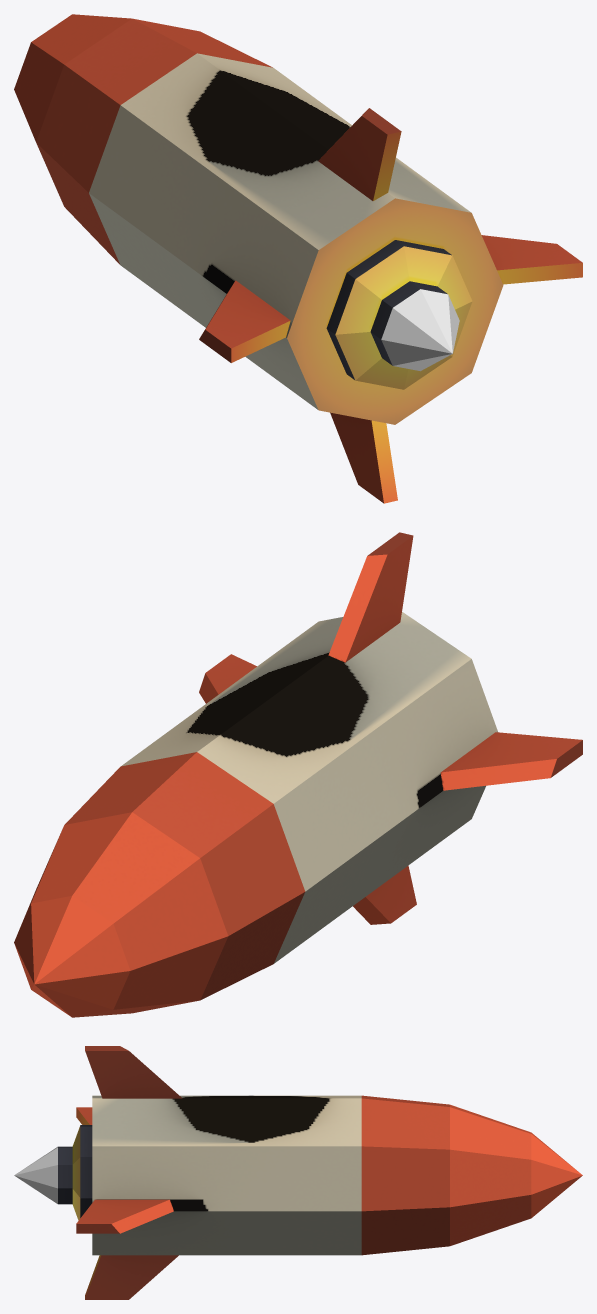
File: Rocket.glb
3 views of the same model, one above another, from view 1: azimuth 30°, elevation 25°; view 2: azimuth 150°, elevation 25°; view 3: azimuth 270°, elevation 25° (orthographic). The views are drawn at different scales.
Parts seen in each view (by area): view 1: rocket_ship; view 2: rocket_ship; view 3: rocket_ship.
Part boxes in pixels (left/top/right/bottom): rocket_ship: left=14, top=14, right=582, bottom=503; rocket_ship: left=14, top=532, right=582, bottom=1017; rocket_ship: left=14, top=1046, right=582, bottom=1299.
Size of the model in its own units: 1.47 by 1.47 by 3.04.
1 material, 1 textured.
